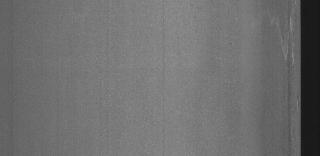silk spot: (264, 13, 298, 74)
